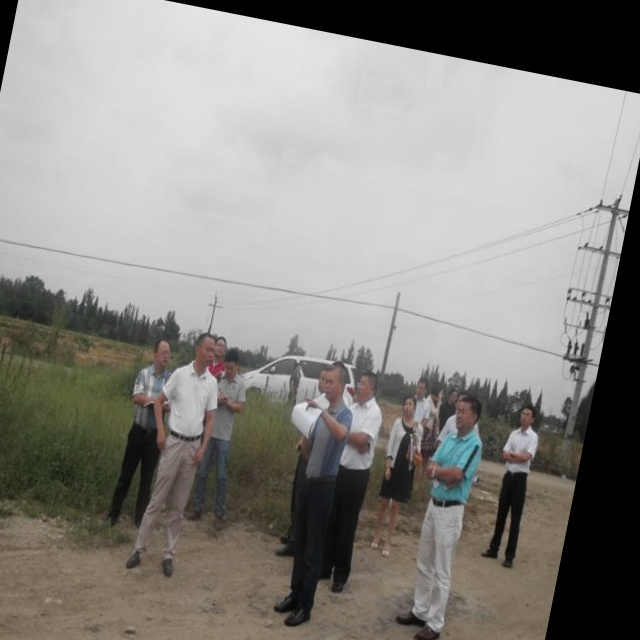Sin_Casco_Mascarrilla: (354, 369, 379, 406), (151, 338, 173, 371), (519, 404, 538, 430)
Sin_Chaleco: (428, 428, 485, 507), (165, 361, 219, 442)
